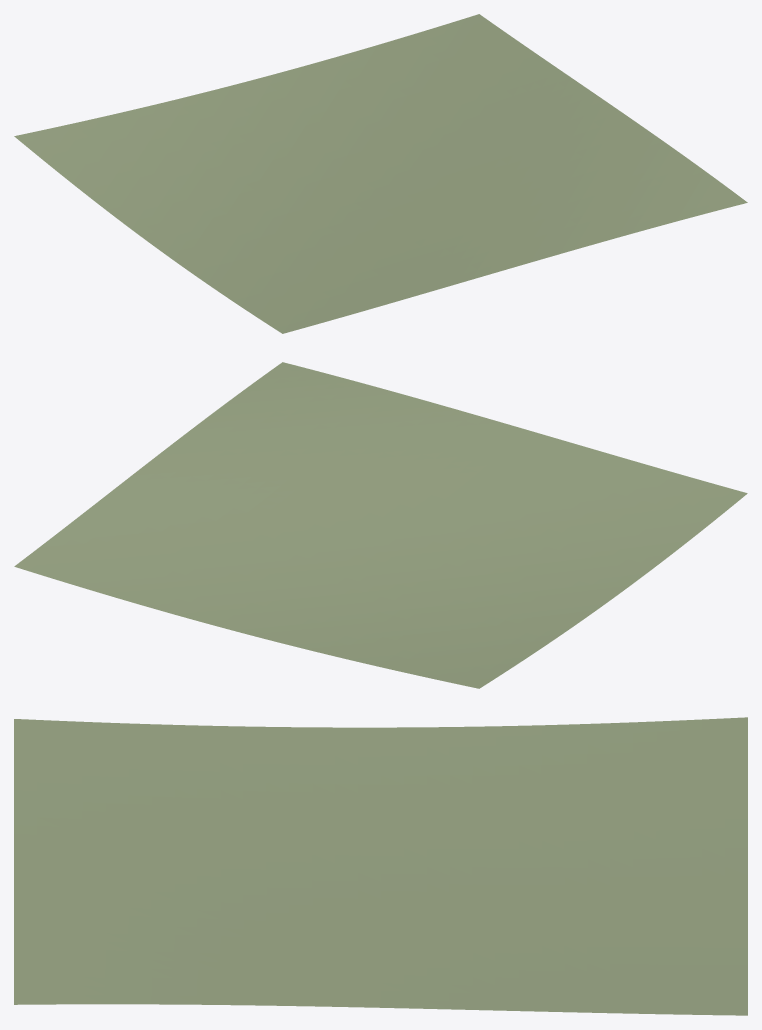
The model's file is alpine-0-2.glb.
3 views of the same model, one above another, from view 1: azimuth 30°, elevation 25°; view 2: azimuth 150°, elevation 25°; view 3: azimuth 270°, elevation 25° (orthographic). The views are drawn at different scales.
Visible parts, largest first — view 1: alpine-0-2; view 2: alpine-0-2; view 3: alpine-0-2.
Part boxes in pixels (<box>): alpine-0-2: <box>14,14,747,333</box>; alpine-0-2: <box>14,362,747,688</box>; alpine-0-2: <box>14,717,747,1015</box>.
Size of the model in its own units: 256 by 12.87 by 256.
